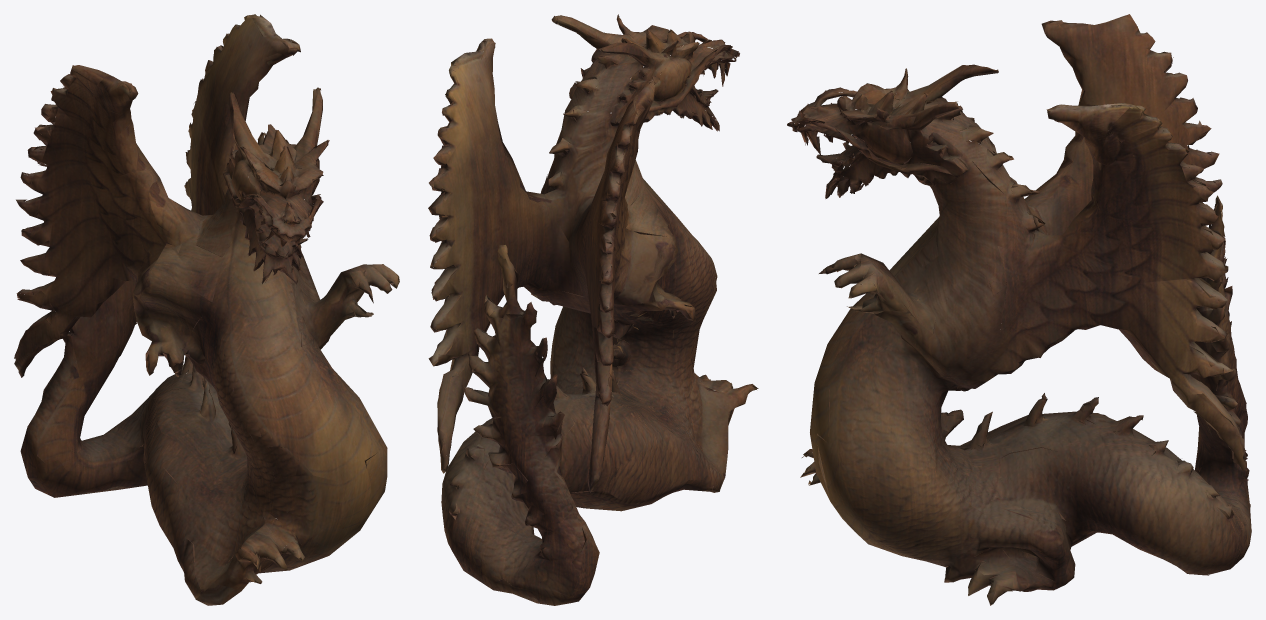
The model's file is dragon_statuette.glb.
The picture shows the model from 3 angles, left to right: view 1: azimuth 30°, elevation 25°; view 2: azimuth 150°, elevation 25°; view 3: azimuth 270°, elevation 25°; orthographic projection. The views are drawn at different scales.
Parts seen in each view (by area): view 1: lr_parts_lr_parts_material_0_0; view 2: lr_parts_lr_parts_material_0_0; view 3: lr_parts_lr_parts_material_0_0.
Boxes of the visible parts, left/top/right/bottom form: lr_parts_lr_parts_material_0_0: left=14, top=14, right=399, bottom=605; lr_parts_lr_parts_material_0_0: left=428, top=14, right=758, bottom=605; lr_parts_lr_parts_material_0_0: left=787, top=14, right=1251, bottom=605.
Bounding box in the file's own units: 190 × 409 × 339.
1 material, 1 textured.
